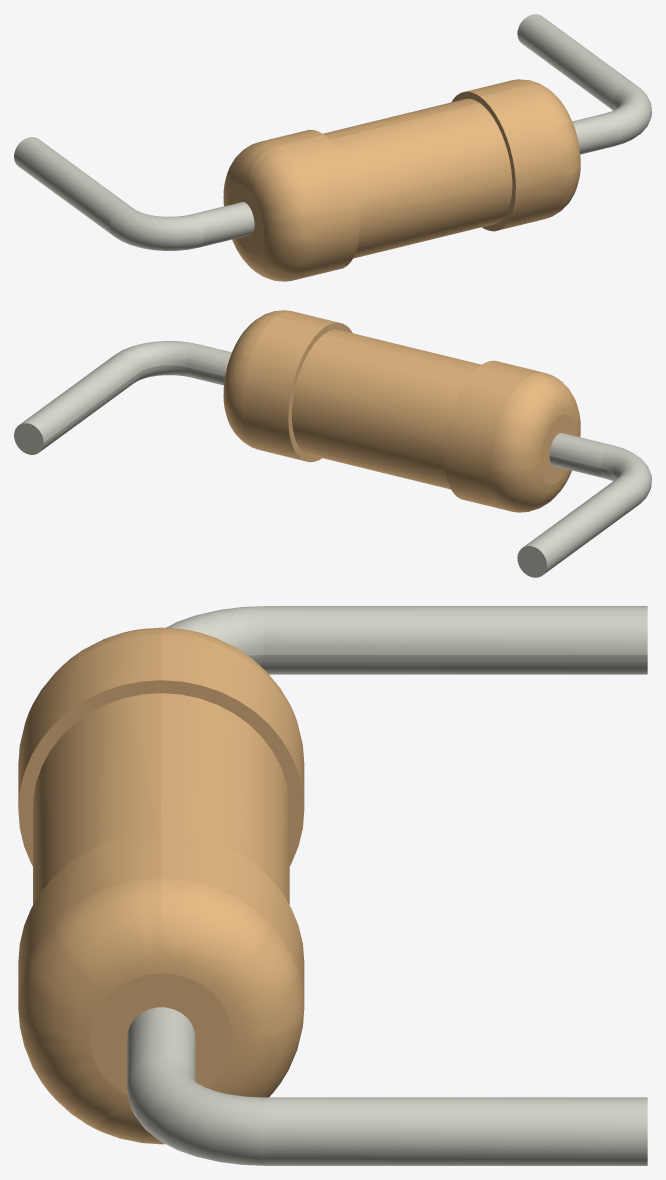
Rendered from resistor.glb.
3 views of the same model, one above another, from view 1: azimuth 30°, elevation 25°; view 2: azimuth 150°, elevation 25°; view 3: azimuth 270°, elevation 25° (orthographic). The views are drawn at different scales.
Parts seen in each view (by area): view 1: R_Axial_DIN0207_L63mm_D25mm_P1016mm_Horizontal; view 2: R_Axial_DIN0207_L63mm_D25mm_P1016mm_Horizontal; view 3: R_Axial_DIN0207_L63mm_D25mm_P1016mm_Horizontal.
Part boxes in pixels (x1=…): R_Axial_DIN0207_L63mm_D25mm_P1016mm_Horizontal: x1=14, y1=14, x2=651, y2=281; R_Axial_DIN0207_L63mm_D25mm_P1016mm_Horizontal: x1=14, y1=310, x2=651, y2=577; R_Axial_DIN0207_L63mm_D25mm_P1016mm_Horizontal: x1=18, y1=606, x2=647, y2=1165.
Size of the model in its own units: 10.76 by 2.5 by 5.5.
